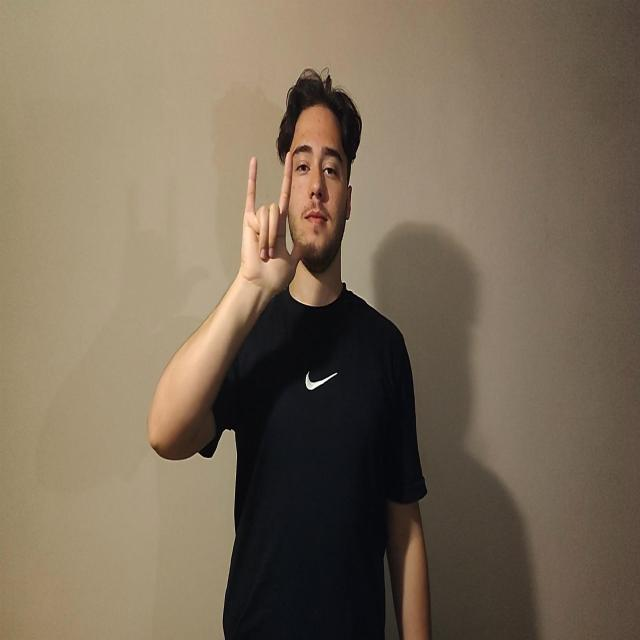iloveyou: (239, 150, 303, 299)
